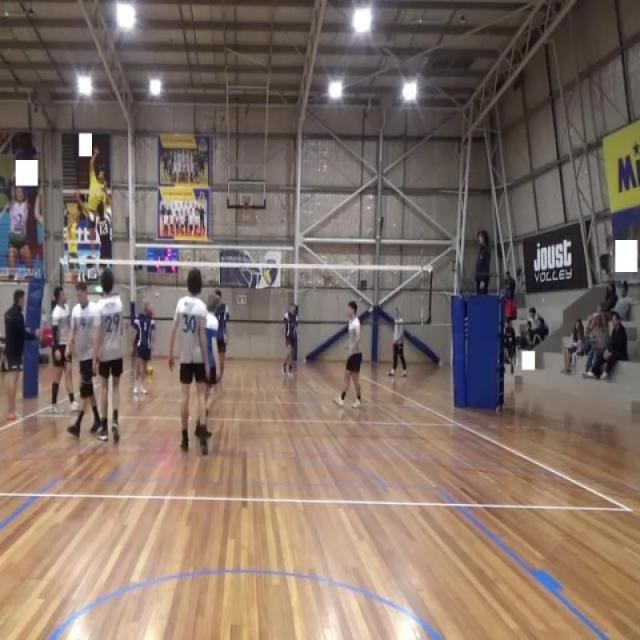volleyball: (146, 363, 154, 378)
